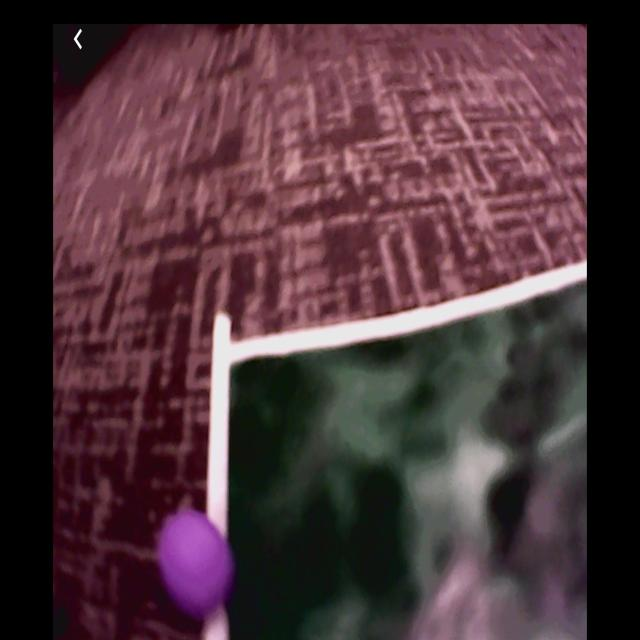ball: (159, 511, 232, 613)
